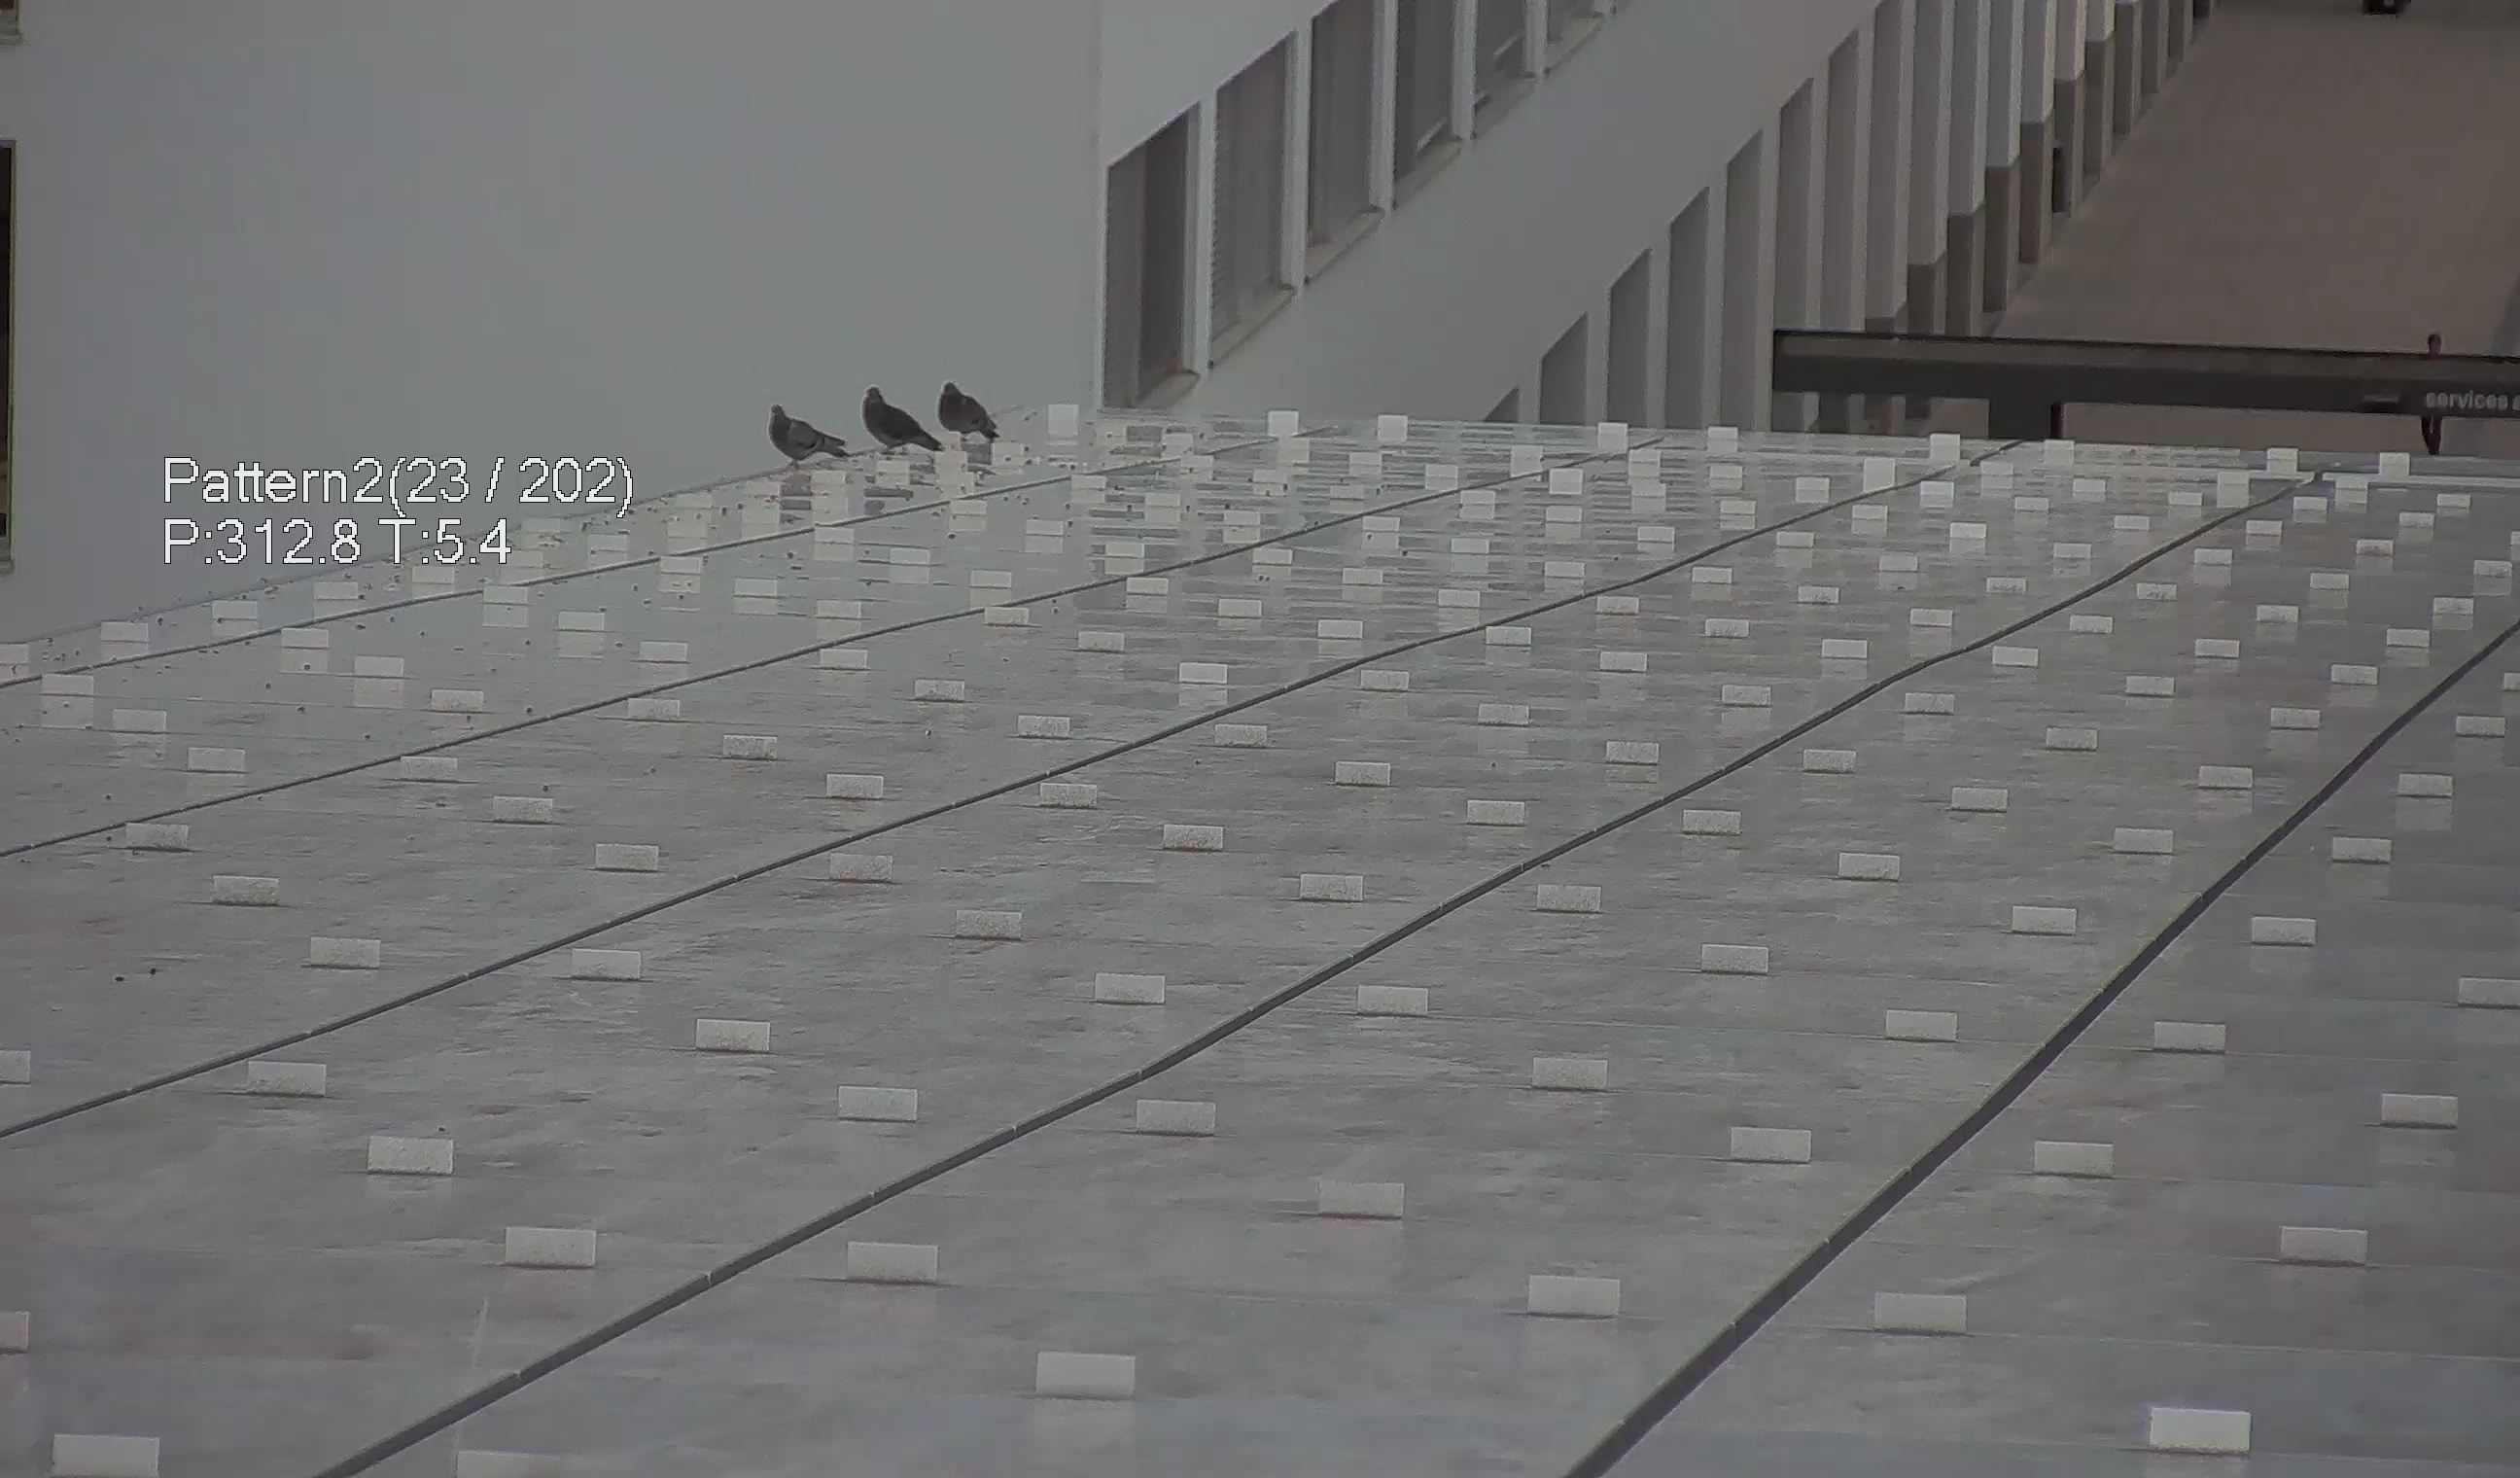Pigeon: (758, 396, 856, 473), (920, 366, 1002, 457), (858, 377, 944, 459)
